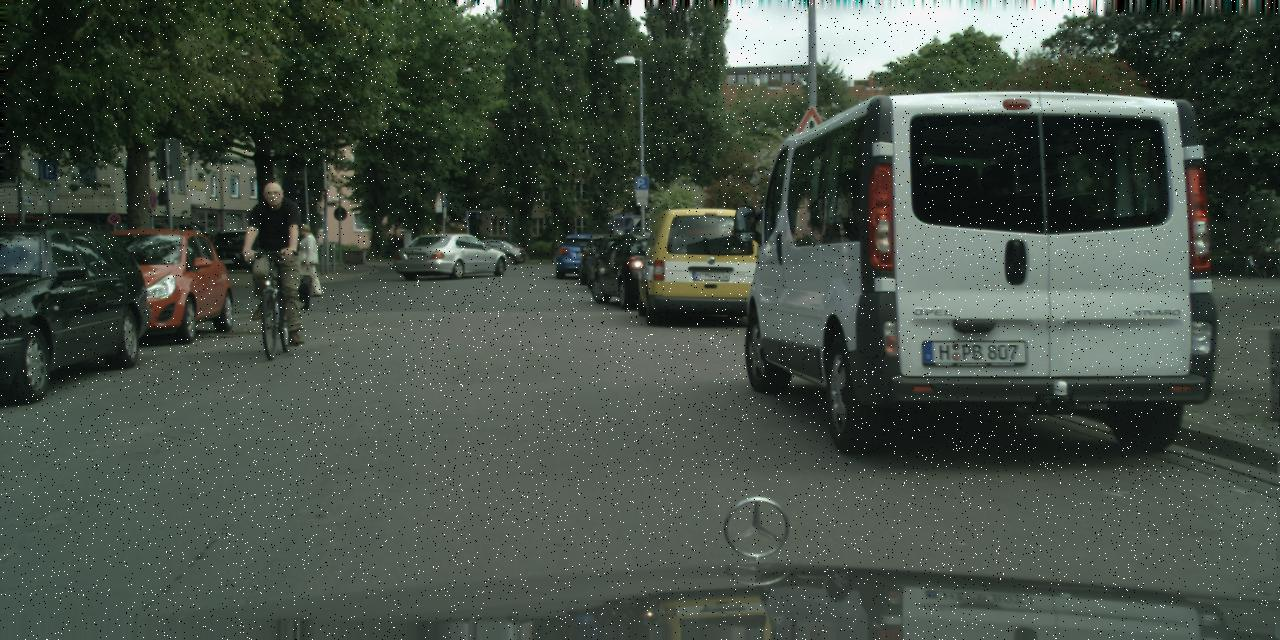ped: (247, 182, 306, 328), (292, 223, 321, 296)
